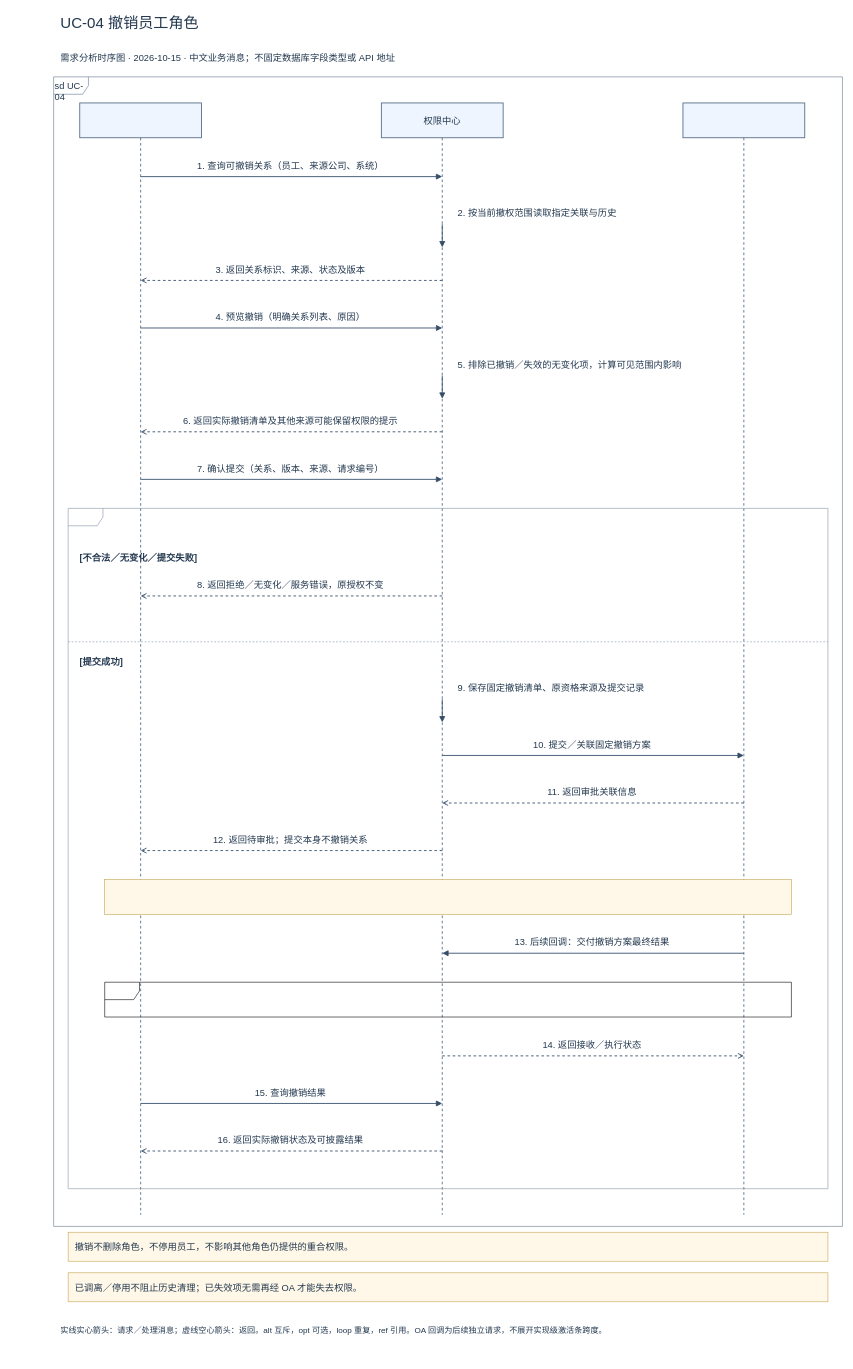
Image size: 853x1369. Some labels were removed from this diagram. The shapes that lost their labels are listed below. From the top down, each one's box as (x1, y1, x2, y2) in pixels, then its label:
(79, 102, 202, 1215): 总管理员／公司专员
(682, 102, 805, 1215): 外部 OA 系统
(68, 508, 828, 1189): alt
(104, 879, 791, 914): 等待期间其他合法变更仍可能使原授权失效
(104, 982, 791, 1017): ref UC-11：批准后复核关系与版本，整体撤销指定关联
